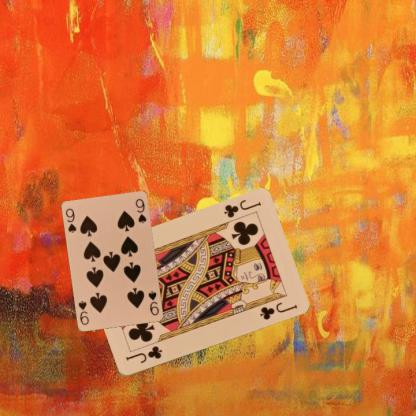9s: (63, 206, 78, 234), (146, 289, 160, 317)
Jc: (221, 197, 262, 220), (123, 343, 164, 365)
